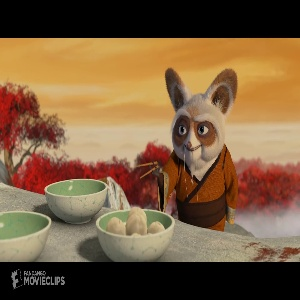shifu: (137, 65, 241, 233)
